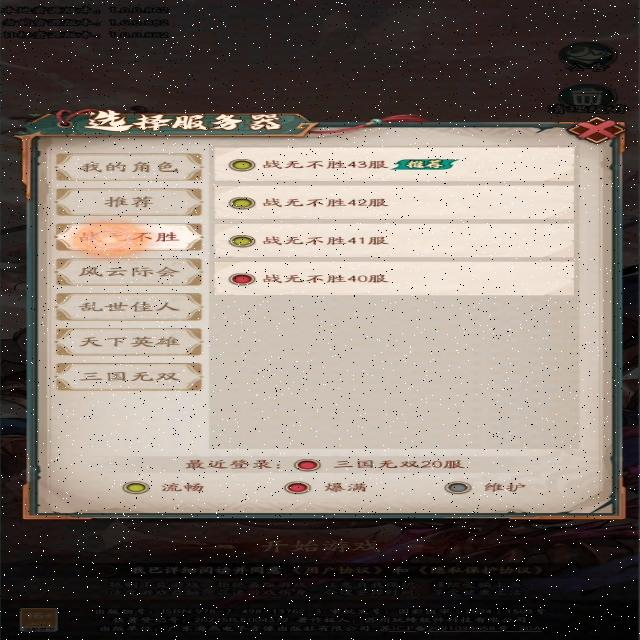operation-close: (573, 116, 624, 142)
